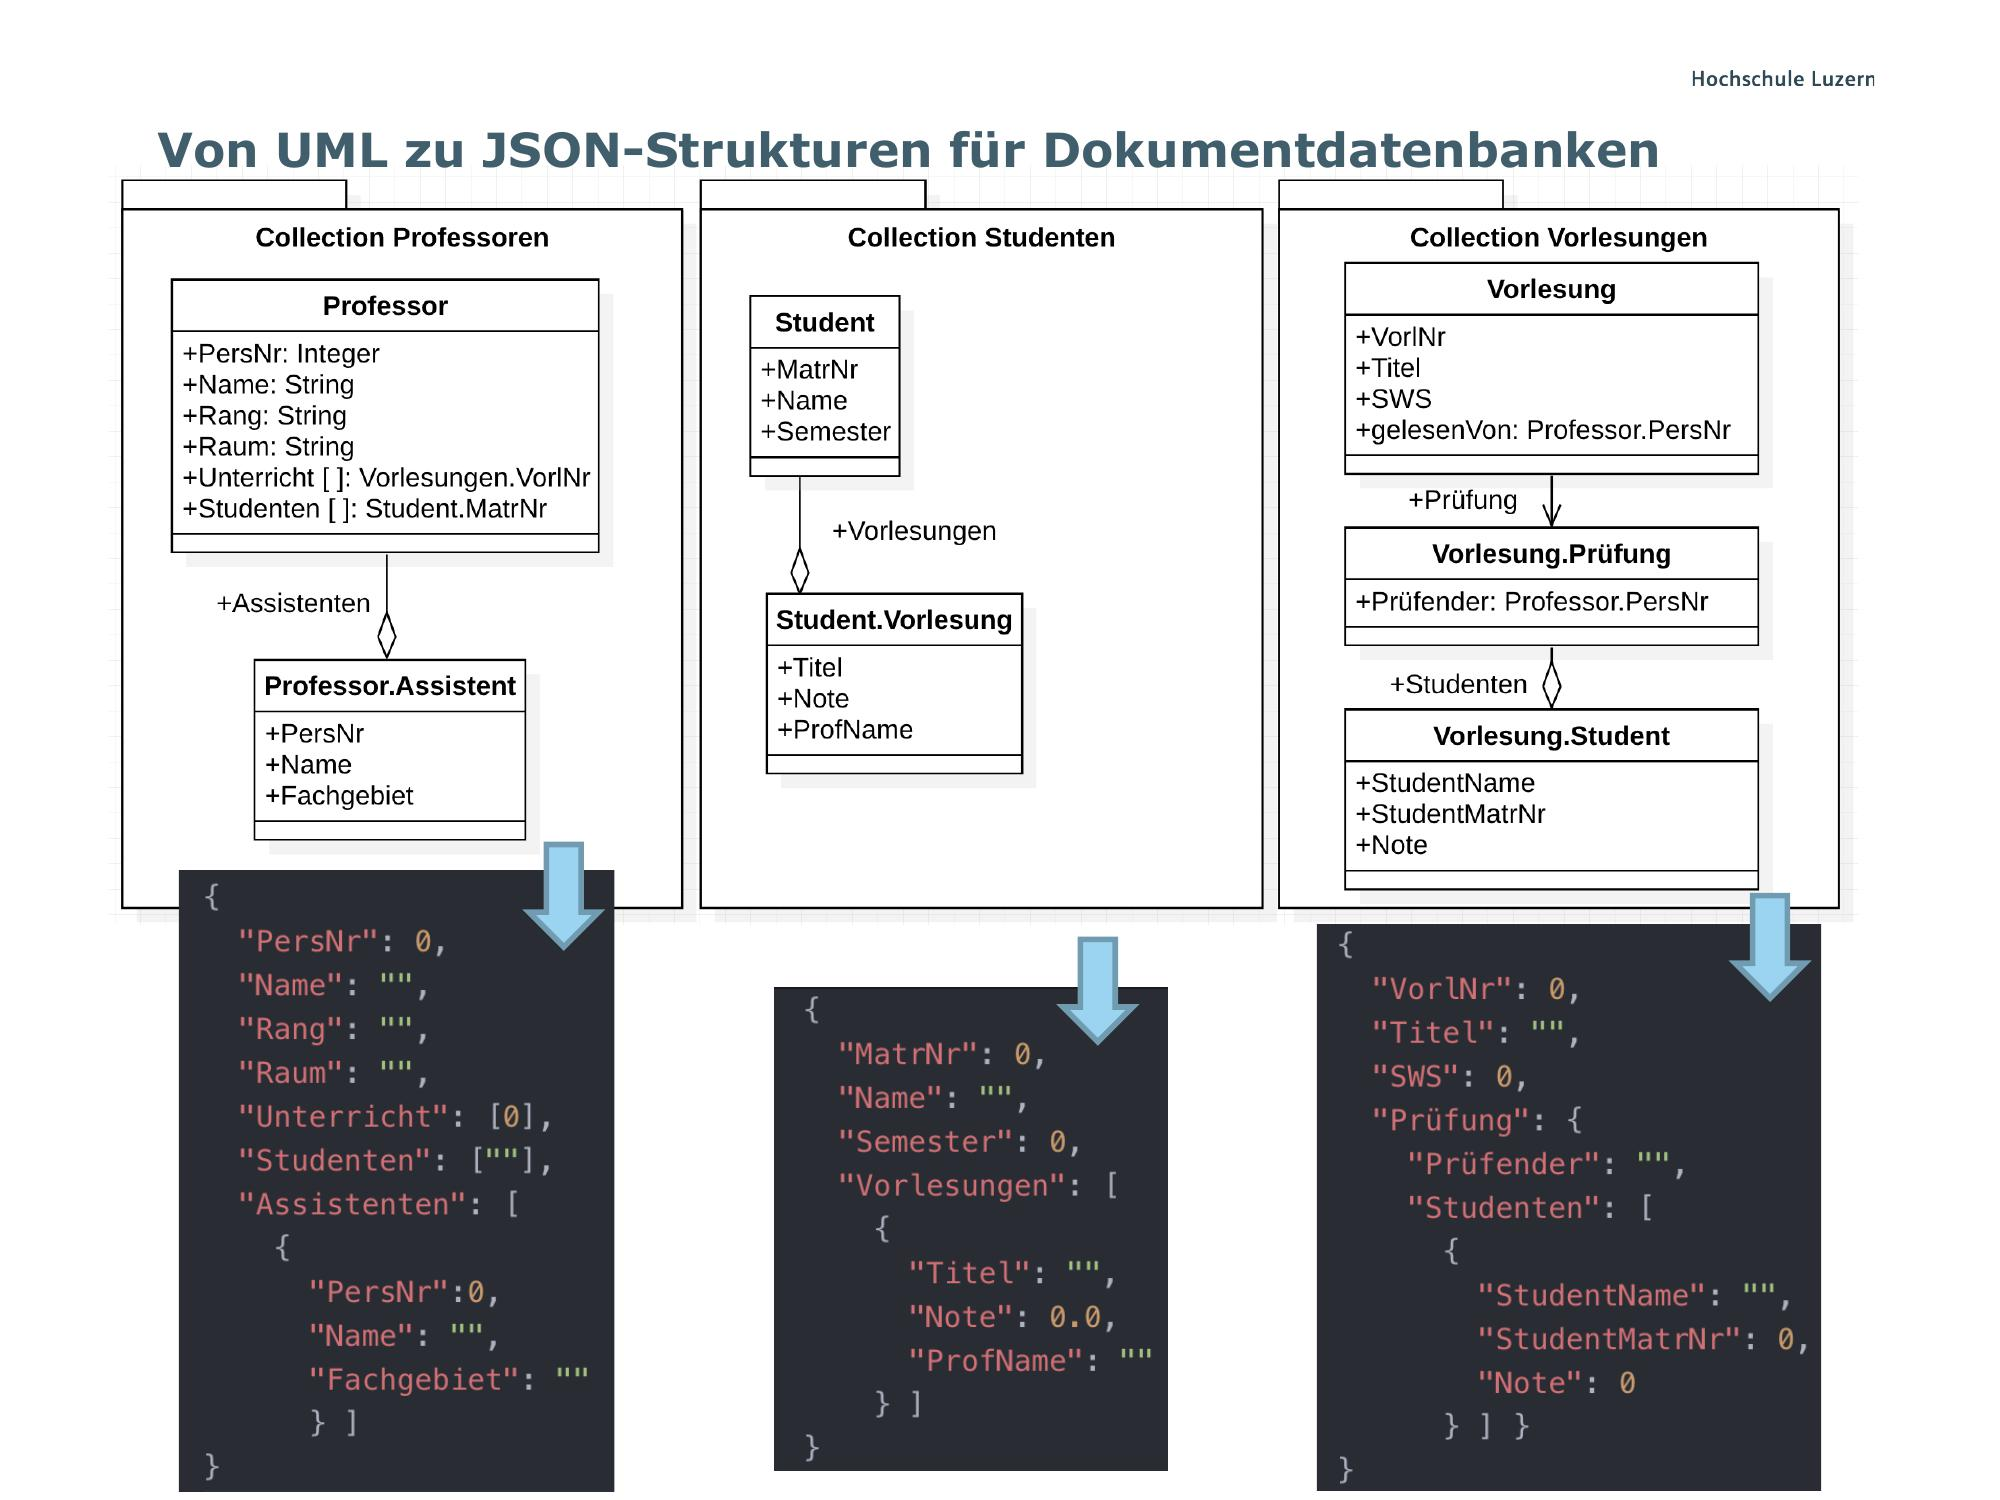Title: (143, 113, 1669, 180)
